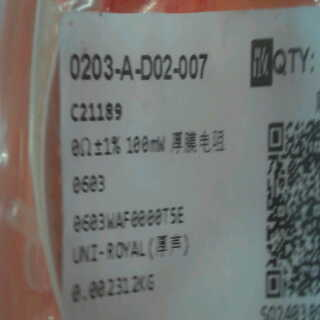0R: (69, 130, 125, 200)
